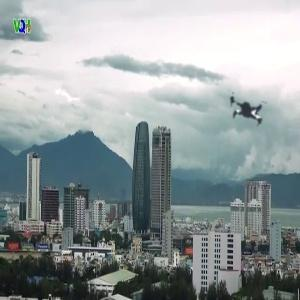drone: (209, 72, 287, 150)
